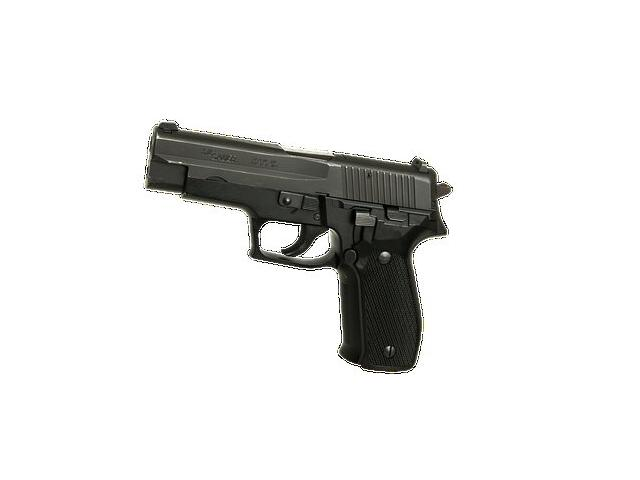pistol: (142, 119, 460, 378)
